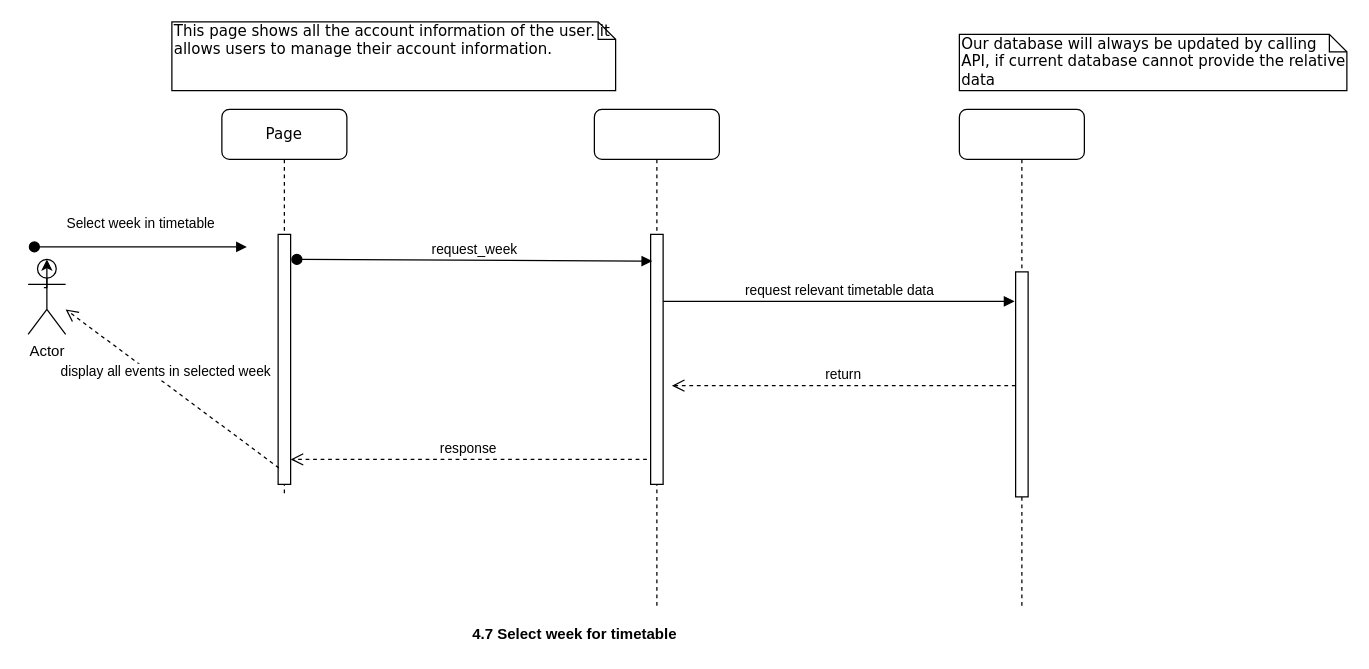
This 1369x669 diagram has some shape labels left out. The box of each missing label's shape, as (x1, y1, x2, y2) in pixels:
Back End: (593, 108, 719, 609)
Database: (958, 108, 1084, 609)
